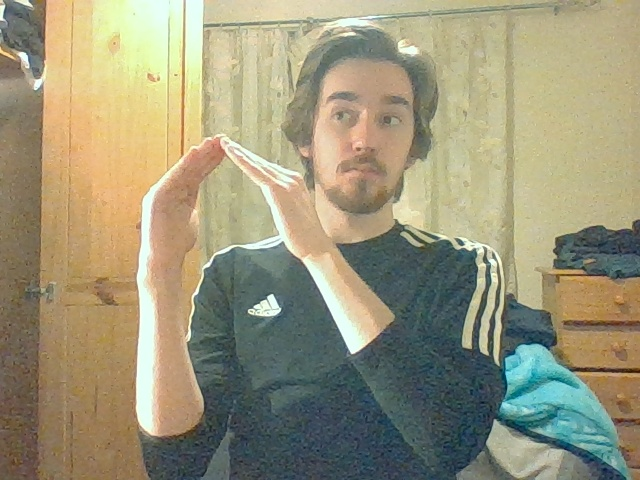home: (139, 134, 308, 216)
